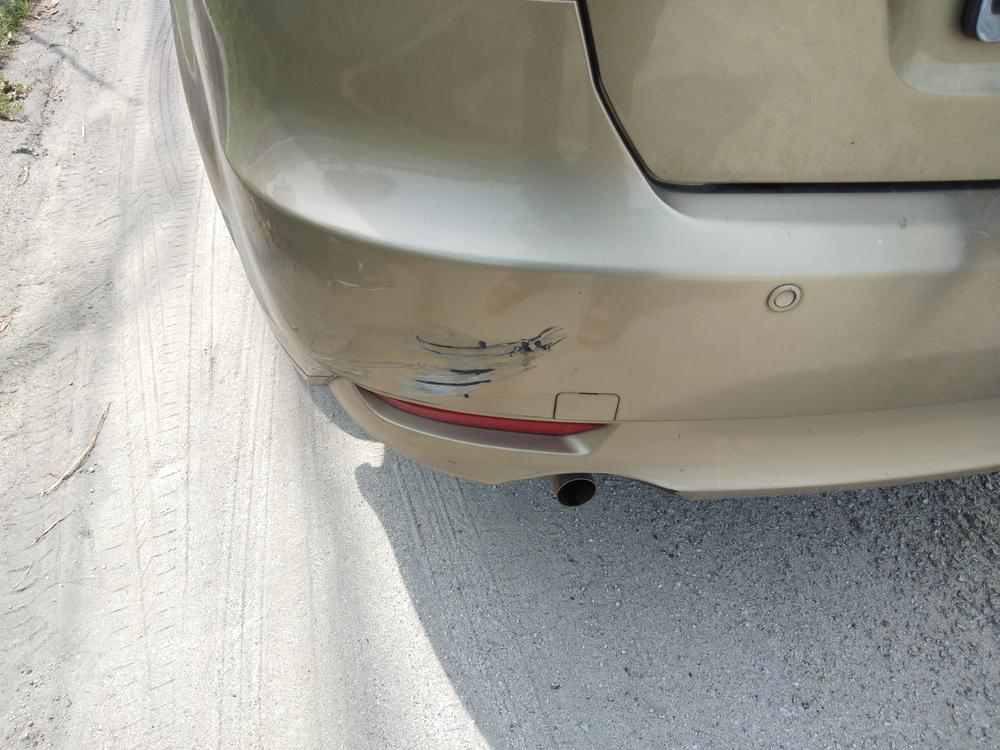scratch: (352, 323, 572, 407)
